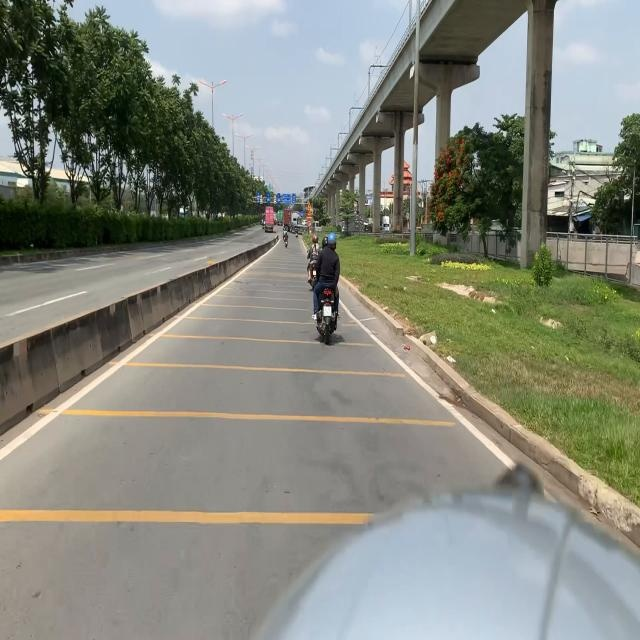bien_nguy_hiem: (307, 219, 312, 228)
